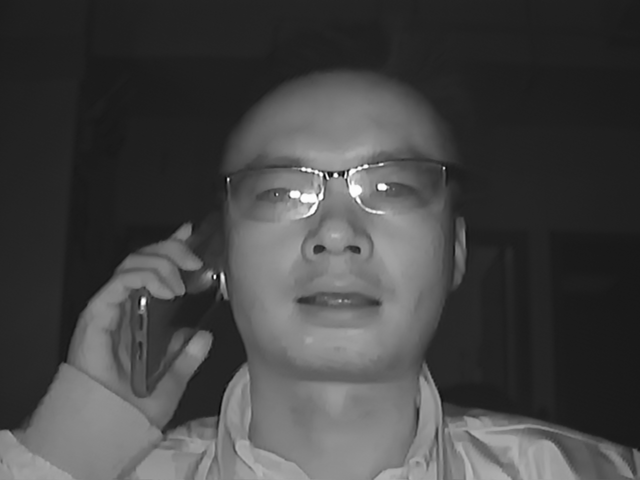hand: (67, 217, 211, 408)
